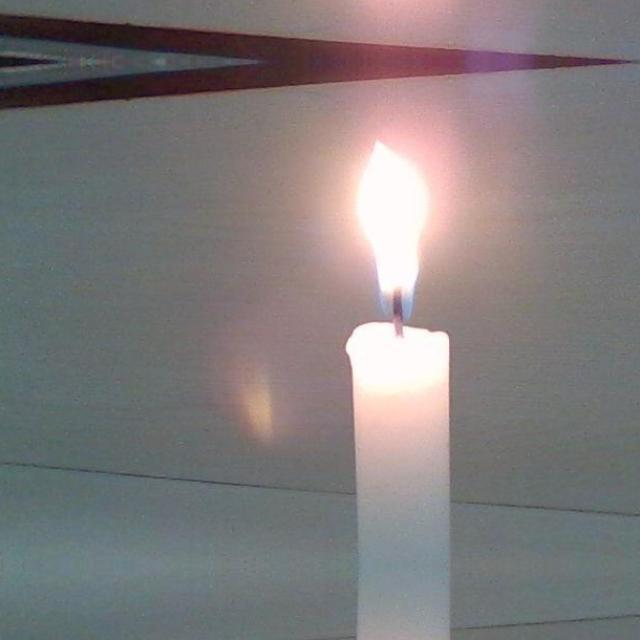smoke: (353, 134, 435, 321)
